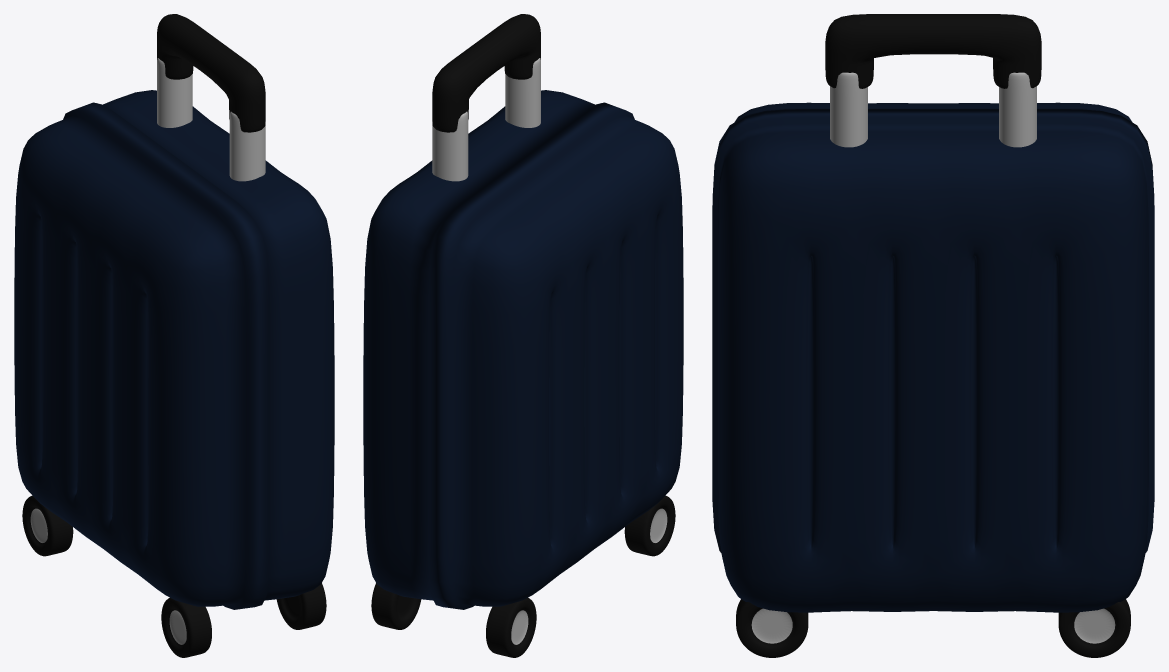
Rendered from koper-fix.obj.
3 views of the same model, side by side, from view 1: azimuth 30°, elevation 25°; view 2: azimuth 150°, elevation 25°; view 3: azimuth 270°, elevation 25° (orthographic). The views are drawn at different scales.
Visible parts, largest first — view 1: Cube, Cube.001, Cylinder.001, Cylinder; view 2: Cube, Cube.001, Cylinder.001, Cylinder; view 3: Cube, Cube.001, Cylinder.001, Cylinder.
Part boxes in pixels (left/top/right/bottom): Cube: left=14, top=90, right=334, bottom=609; Cube.001: left=157, top=14, right=265, bottom=132; Cylinder.001: left=22, top=495, right=326, bottom=657; Cylinder: left=157, top=58, right=265, bottom=181; Cube: left=363, top=90, right=683, bottom=609; Cube.001: left=432, top=14, right=540, bottom=132; Cylinder.001: left=371, top=495, right=675, bottom=657; Cylinder: left=432, top=58, right=540, bottom=181; Cube: left=712, top=102, right=1154, bottom=612; Cube.001: left=825, top=14, right=1041, bottom=88; Cylinder.001: left=736, top=599, right=1130, bottom=657; Cylinder: left=830, top=72, right=1036, bottom=147.
Bounding box in the file's own units: 1.13 × 3.43 × 2.2.
